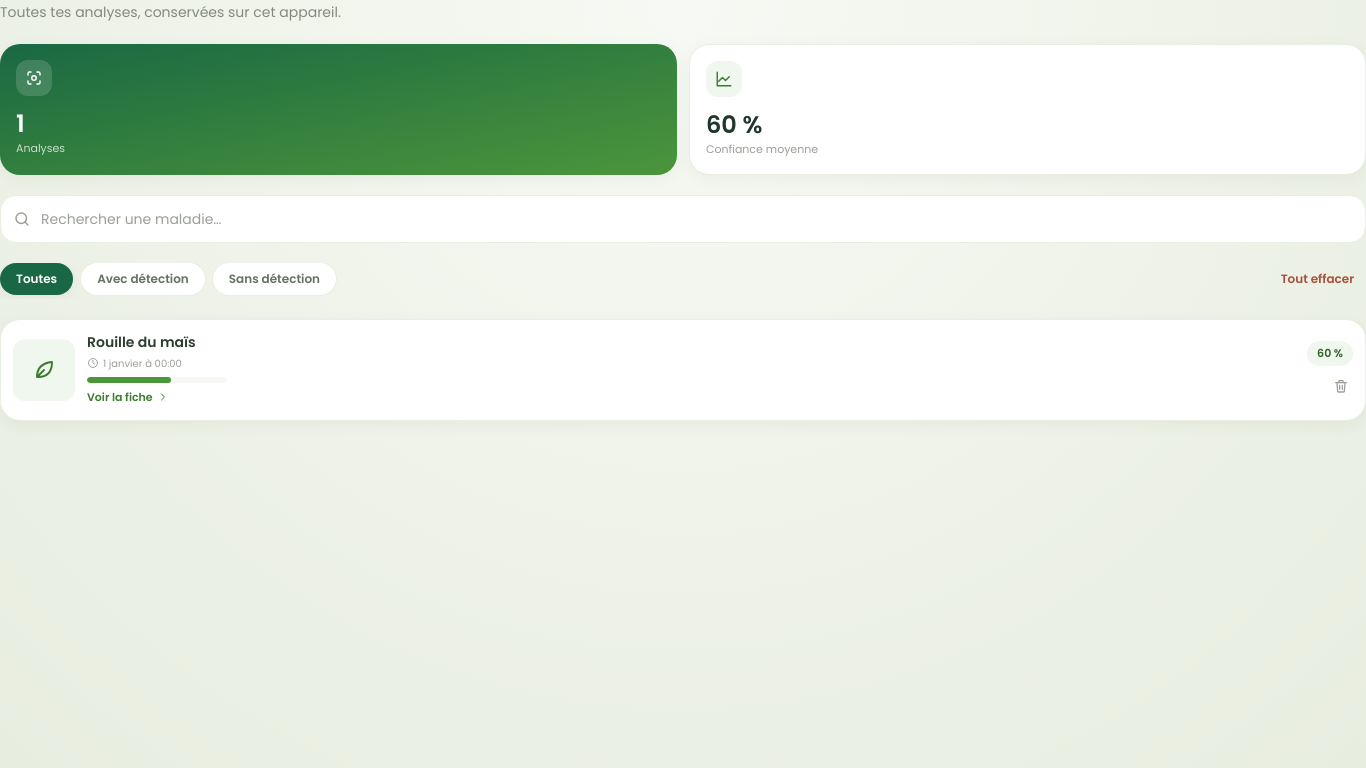
Test: suppression d'une analyse
What coordinates should you click on to do the following:
click the button named "Supprimer"
I would click on:
 (1341, 386)
Its box is [1329,374,1353,398].
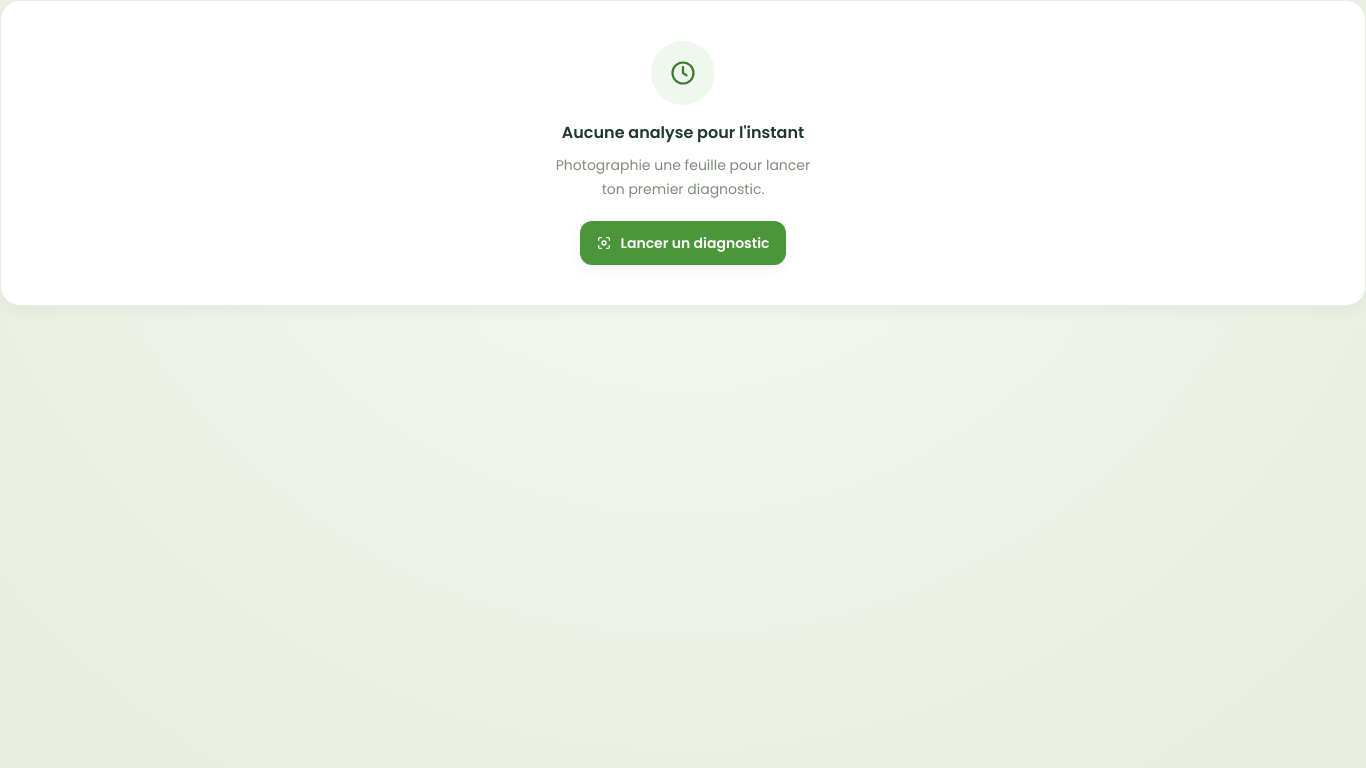
Expected: the heading "Aucune analyse pour l'instant" is shown, [562,121,804,144]
